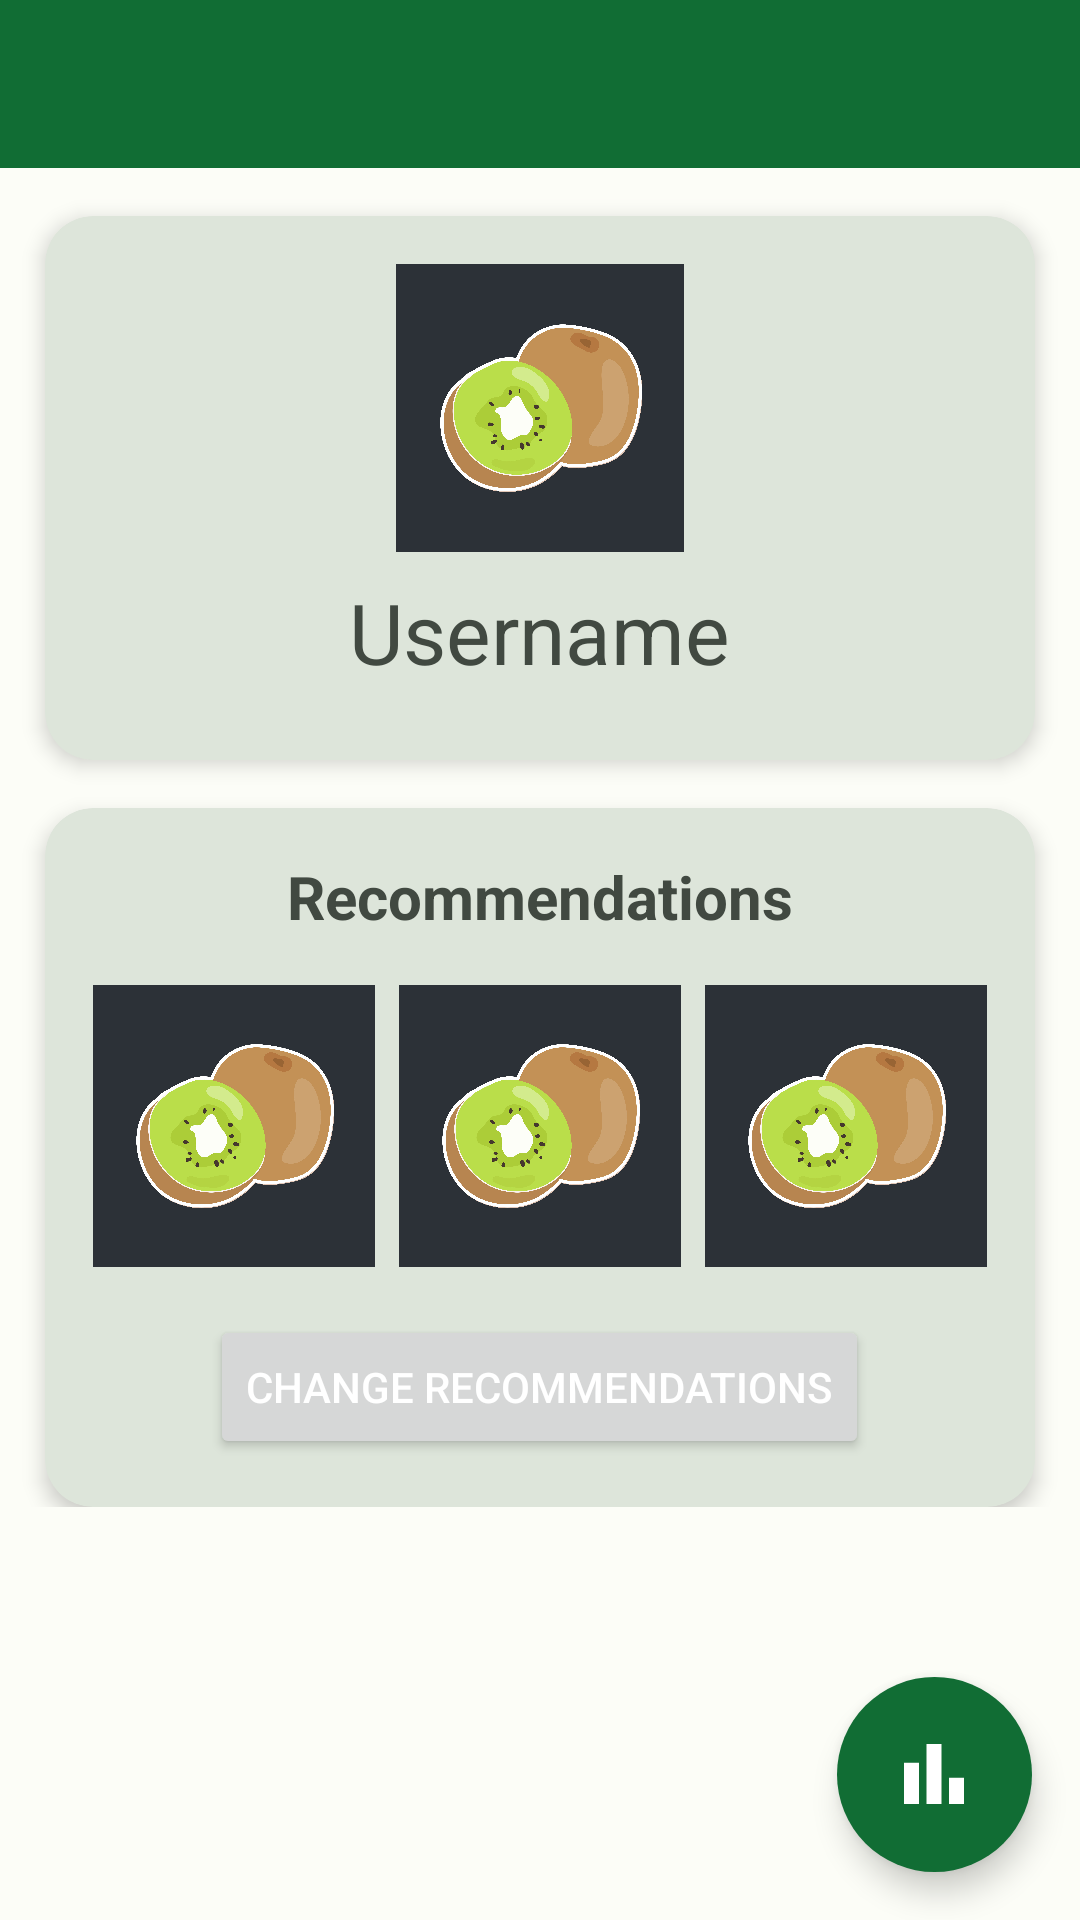

Where icons sit on this 1080 x 1920 app screen, as bbox=(x1, y1, x2, y2):
kiwi: bbox=(396, 264, 684, 552), bbox=(93, 985, 375, 1267), bbox=(399, 985, 681, 1267), bbox=(705, 985, 987, 1267)
